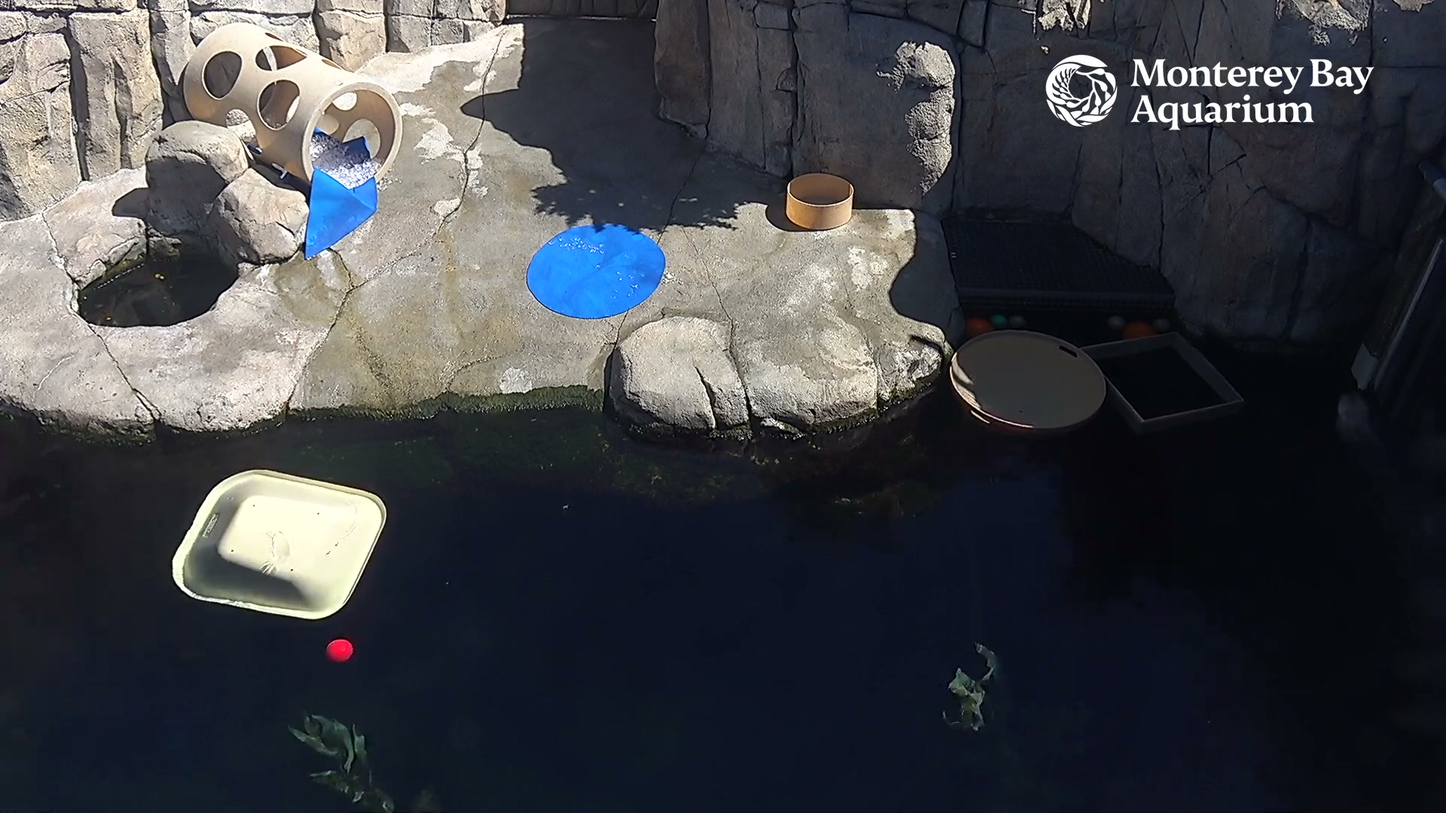Southern Sea Otter: (1285, 383, 1445, 556)
